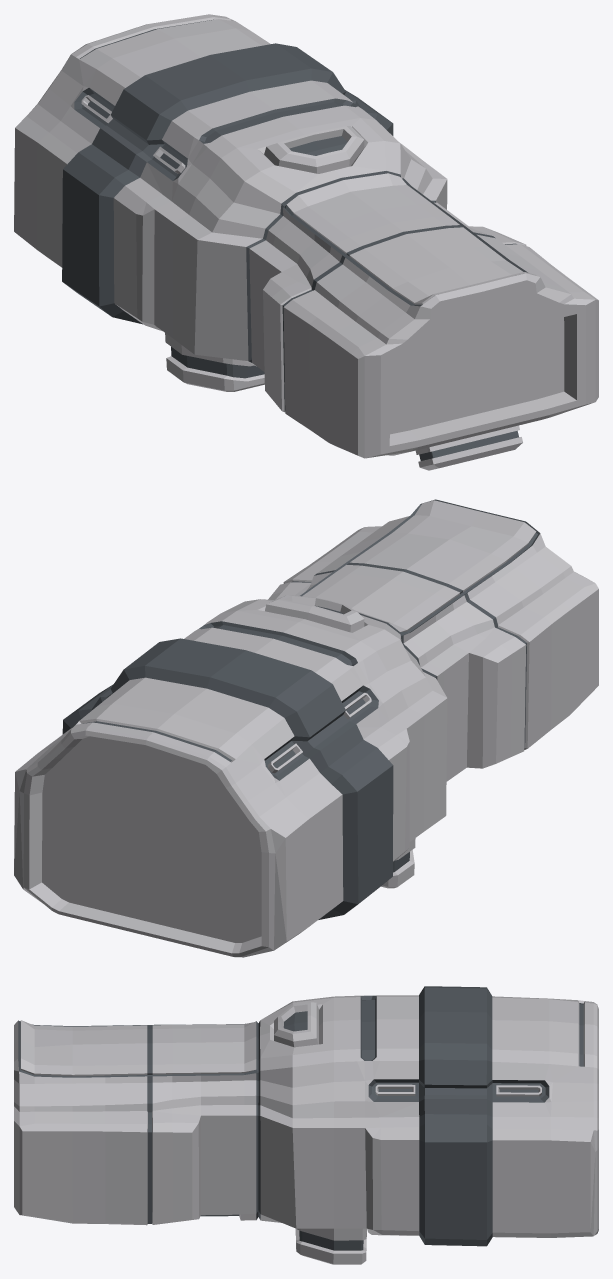
File: Fighter_10_Rear_Body.fbx
3 renders of one model, top to bottom at view 1: azimuth 30°, elevation 25°; view 2: azimuth 150°, elevation 25°; view 3: azimuth 270°, elevation 25°, orthographic. The views are drawn at different scales.
Visible parts, largest first — view 1: Fighter_10_Rear_Body; view 2: Fighter_10_Rear_Body; view 3: Fighter_10_Rear_Body.
Part boxes in pixels (x1,y1,x2,y2): Fighter_10_Rear_Body: (14,14,598,470); Fighter_10_Rear_Body: (14,499,598,957); Fighter_10_Rear_Body: (14,986,598,1264).
Bounding box in the file's own units: 1046 × 803 × 2066.
Materials: 2 (2 with a texture image).
